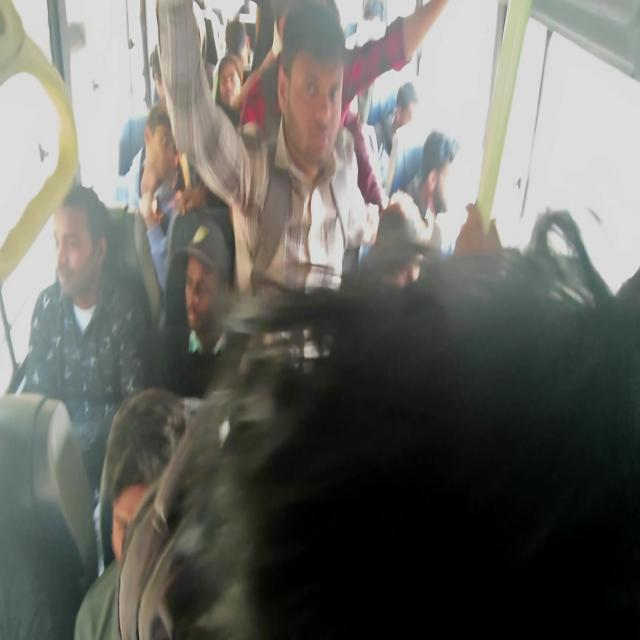person: (245, 367, 638, 640), (292, 19, 384, 210), (53, 195, 135, 323), (115, 409, 173, 576), (180, 214, 223, 321), (133, 28, 187, 95), (401, 80, 436, 174), (395, 212, 435, 292), (426, 141, 458, 234), (225, 51, 253, 137), (228, 17, 274, 69), (151, 114, 175, 178)
